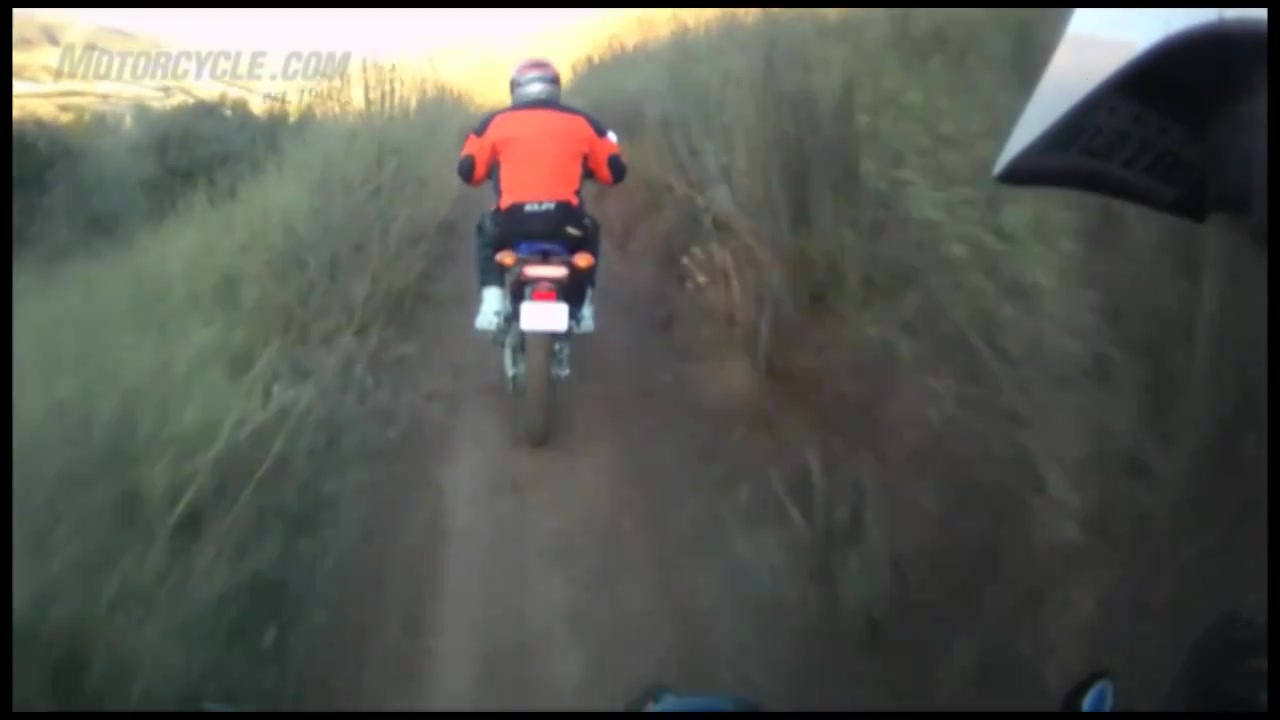motorbike: (470, 145, 611, 453)
